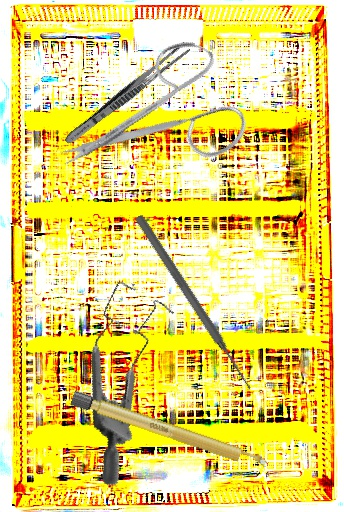Dressing Forceps: (61, 39, 192, 149)
Iris Scissors: (54, 10, 272, 233)
Pusher: (132, 213, 257, 394)
Scalpel Handle: (69, 390, 270, 472)
Speculum: (32, 265, 227, 489)
